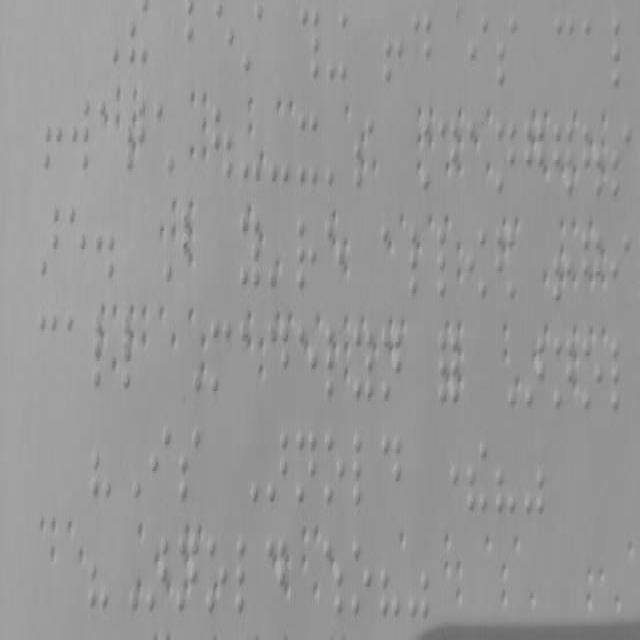braiile: (350, 431, 378, 511), (69, 94, 93, 178), (410, 12, 434, 94), (467, 10, 491, 92), (495, 10, 519, 92), (552, 12, 576, 94), (236, 534, 260, 616), (349, 537, 373, 619), (610, 124, 634, 205), (296, 111, 320, 191), (494, 118, 518, 198), (64, 200, 88, 280), (148, 426, 172, 506), (322, 431, 346, 511), (177, 426, 201, 504), (582, 13, 604, 94), (611, 13, 633, 94), (267, 318, 289, 398), (610, 338, 632, 418), (296, 218, 318, 293), (240, 211, 260, 291), (184, 0, 206, 71), (582, 339, 602, 417), (296, 428, 316, 506), (381, 434, 402, 508), (65, 314, 87, 384), (610, 228, 630, 304), (38, 308, 58, 384), (216, 1, 236, 75), (354, 328, 374, 401), (554, 337, 574, 410), (436, 222, 456, 294)
